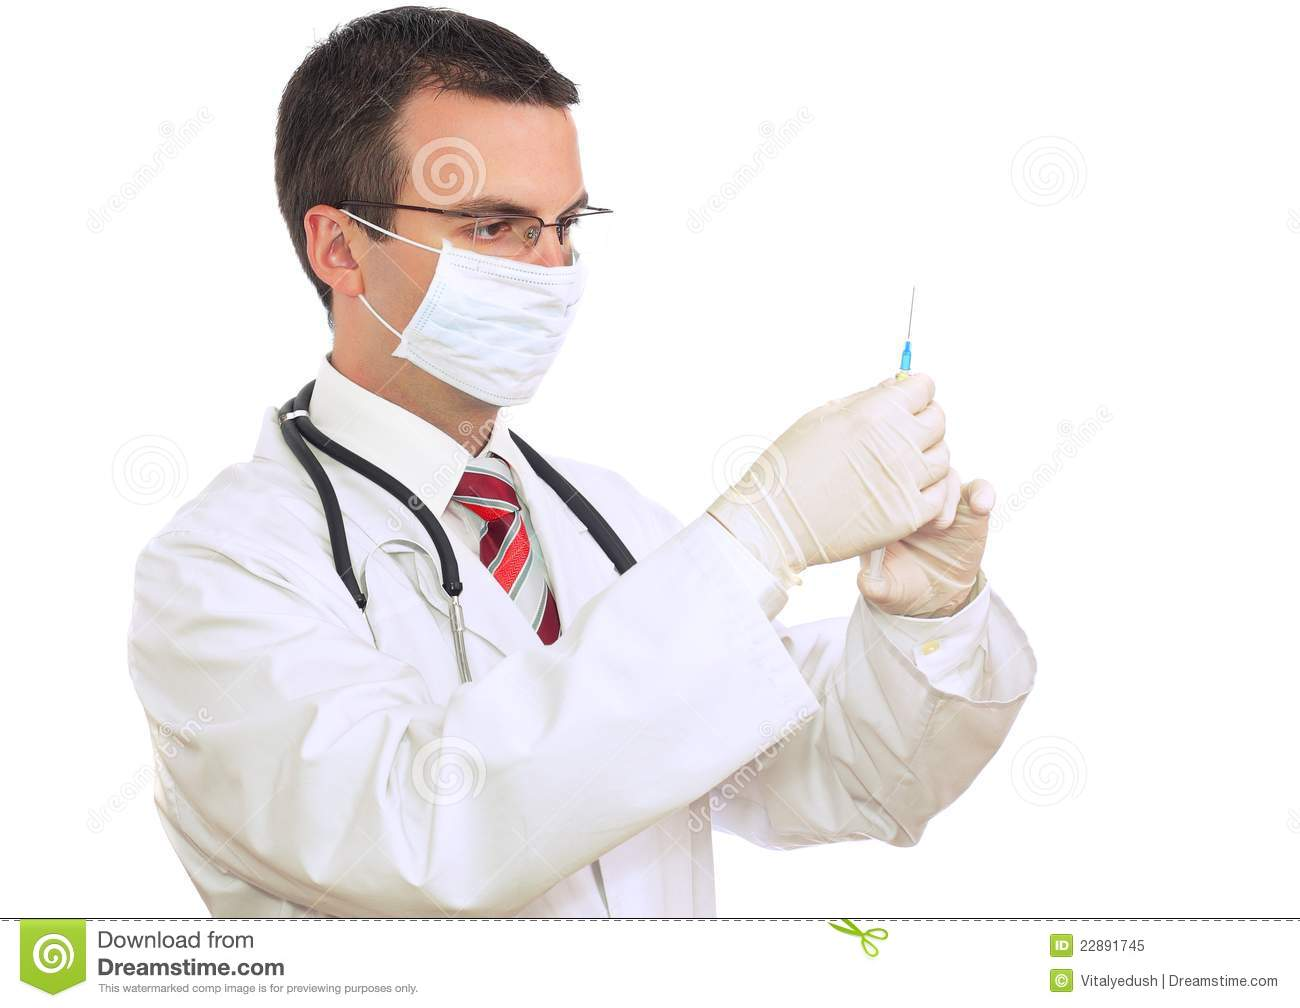mask: (402, 250, 599, 410)
